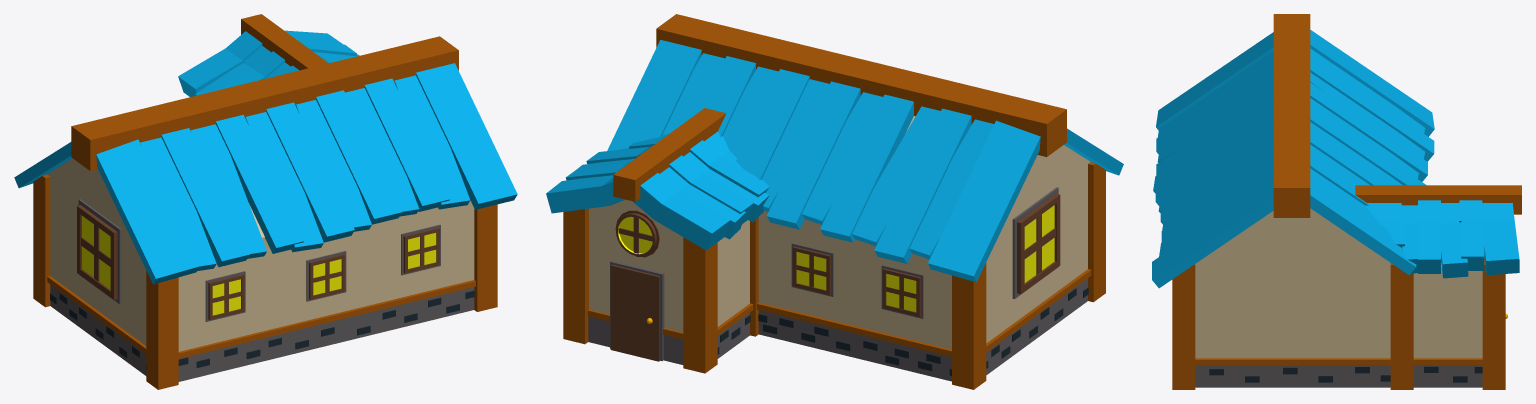
File: pho-nha-nen-4.glb
3 renders of one model, left to right at view 1: azimuth 30°, elevation 25°; view 2: azimuth 150°, elevation 25°; view 3: azimuth 270°, elevation 25°, orthographic. The views are drawn at different scales.
Parts seen in each view (by area): view 1: pho-nha-nen-4; view 2: pho-nha-nen-4; view 3: pho-nha-nen-4.
Part boxes in pixels (x1,y1,x2,y2): pho-nha-nen-4: [14, 14, 517, 389]; pho-nha-nen-4: [546, 14, 1123, 389]; pho-nha-nen-4: [1152, 14, 1521, 389].
Bounding box in the file's own units: 35.9 × 20 × 32.16.
